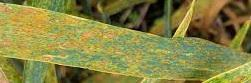Wheat: (137, 42, 215, 74), (2, 8, 46, 54), (83, 30, 134, 67), (48, 16, 79, 57)
